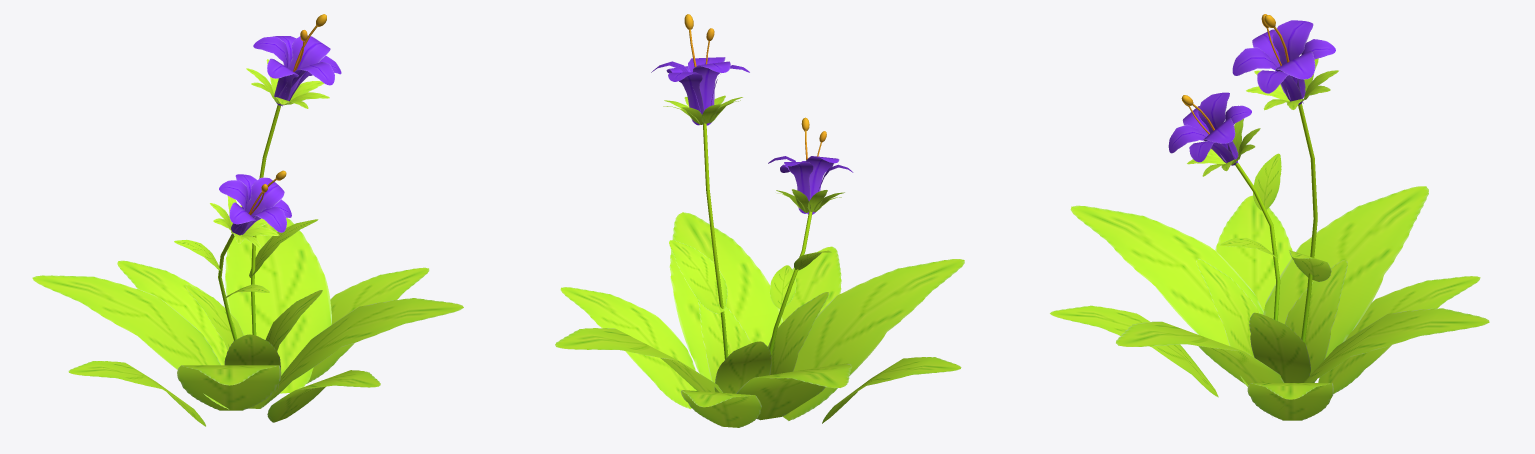
File: plant1.fbx
3 renders of one model, left to right at view 1: azimuth 30°, elevation 25°; view 2: azimuth 150°, elevation 25°; view 3: azimuth 270°, elevation 25°, orthographic. The views are drawn at different scales.
Parts seen in each view (by area): view 1: plant1; view 2: plant1; view 3: plant1.
Part boxes in pixels (x1,y1,x2,y2): plant1: (32, 14, 463, 426); plant1: (555, 14, 964, 427); plant1: (1050, 14, 1489, 420).
Size of the model in its own units: 247 by 228 by 244.
